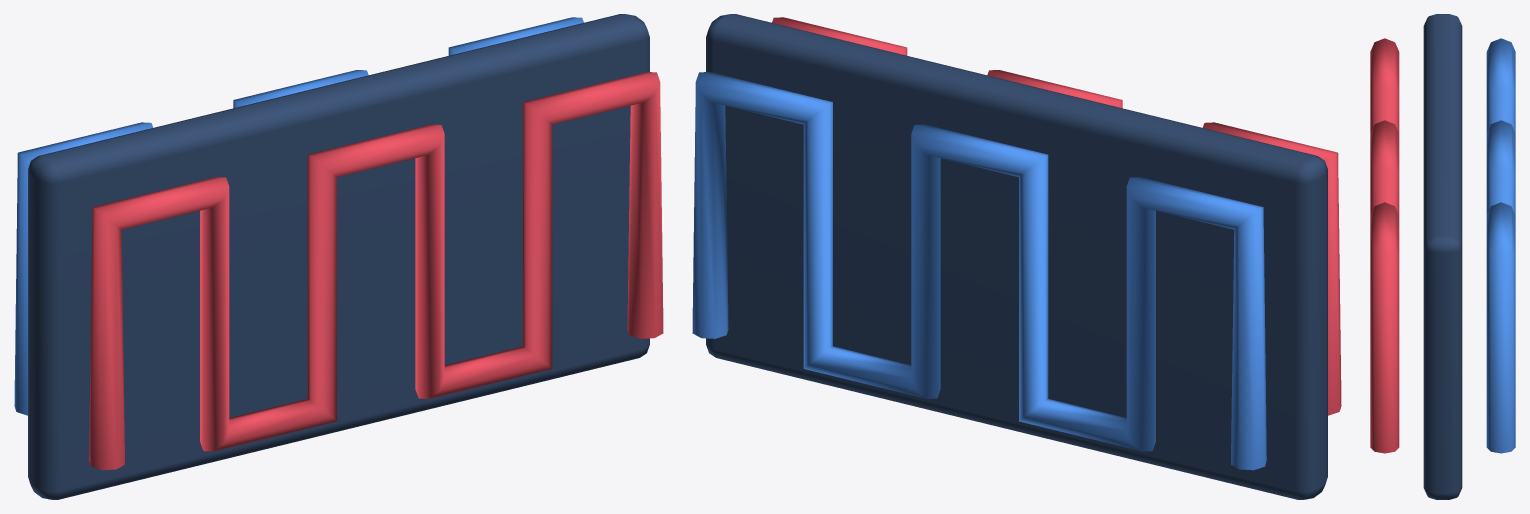
The model's file is heat-exchanger-lite.glb.
3 views of the same model, side by side, from view 1: azimuth 30°, elevation 25°; view 2: azimuth 150°, elevation 25°; view 3: azimuth 270°, elevation 25° (orthographic). The views are drawn at different scales.
Visible parts, largest first — view 1: Frame; view 2: Frame; view 3: Frame.
Part boxes in pixels (x1,y1,x2,y2): Frame: (14,14,663,499); Frame: (692,14,1341,499); Frame: (1370,14,1515,499).
Bounding box in the file's own units: 1.7 × 0.9 × 0.45.
